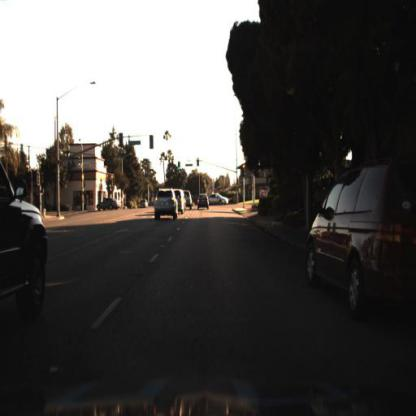car: (306, 162, 416, 320), (2, 155, 51, 324), (151, 184, 179, 220), (97, 195, 123, 214), (196, 188, 213, 211), (211, 192, 231, 209), (174, 191, 187, 217)
trafficLight-Red: (241, 164, 249, 182)
